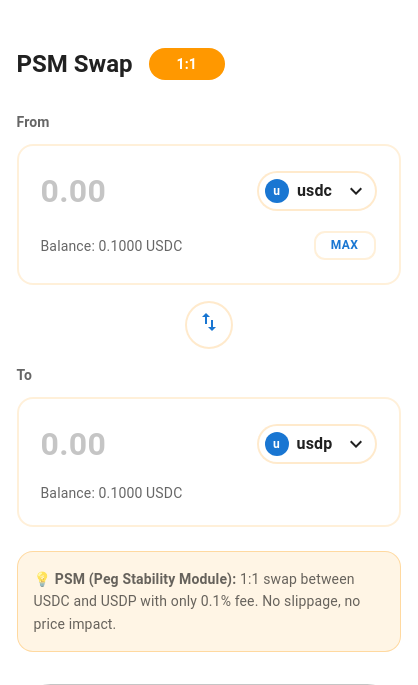
Test: PSMSwapCard - Boundary Tests › should handle very large amounts
This screenshot has width=418, height=685.
Type "999999999" into the field with placeholder "0.00" below "From".
click(140, 191); type("999999999")  # box [40,168,240,214]
(page scrolled)
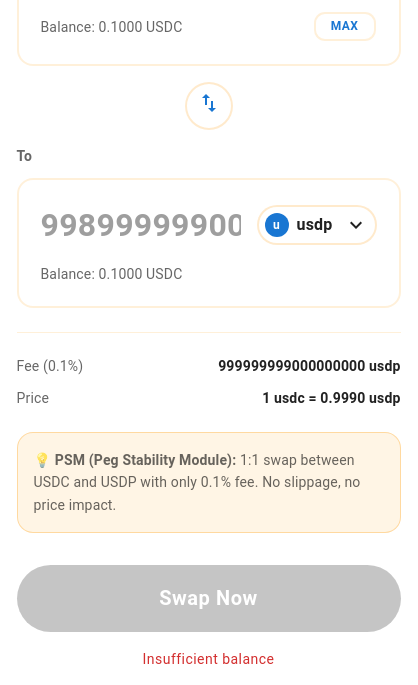
Expected: the text "Insufficient balance" is shown, [143,651,274,667]
